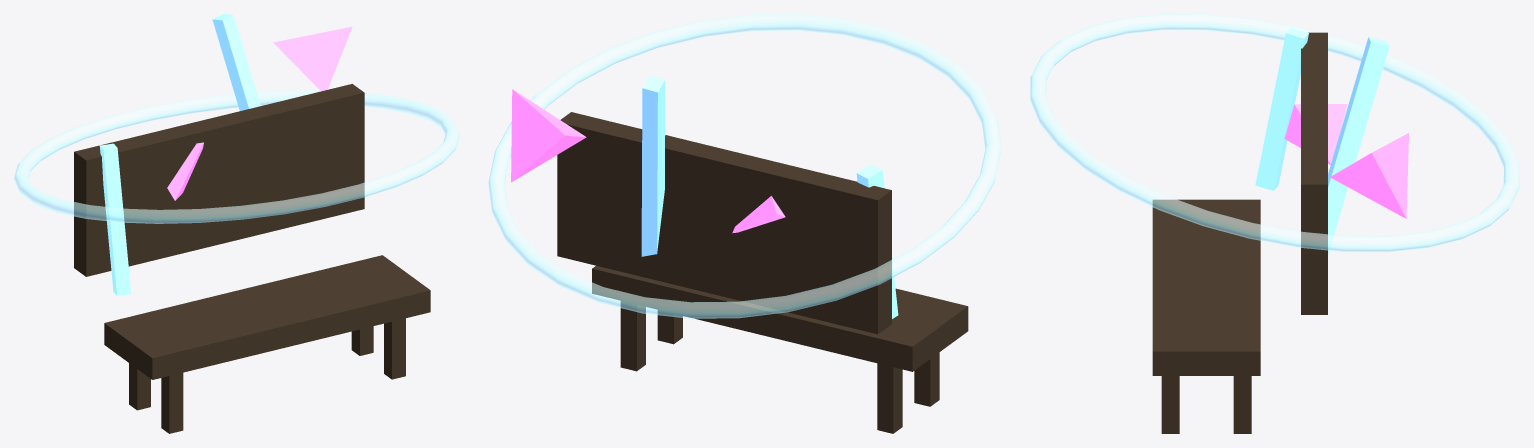
The model's file is bench-growth.glb.
3 renders of one model, left to right at view 1: azimuth 30°, elevation 25°; view 2: azimuth 150°, elevation 25°; view 3: azimuth 270°, elevation 25°, orthographic. The views are drawn at different scales.
Parts seen in each view (by area): view 1: bench-growth-body, growth-halo, growth-0, growth-3, growth-2, growth-1; view 2: bench-growth-body, growth-halo, growth-2, growth-3, growth-1, growth-0; view 3: bench-growth-body, growth-halo, growth-2, growth-0, growth-3, growth-1.
Part boxes in pixels (box(x1,y1,x2,y2)): bench-growth-body: box(74, 84, 430, 433); growth-halo: box(14, 90, 459, 223); growth-0: box(99, 143, 131, 295); growth-3: box(273, 26, 352, 91); growth-2: box(212, 14, 260, 110); growth-1: box(167, 142, 203, 200); bench-growth-body: box(557, 112, 968, 433); growth-halo: box(488, 14, 1001, 318); growth-2: box(641, 75, 665, 256); growth-3: box(511, 89, 586, 182); growth-1: box(732, 196, 785, 233); growth-0: box(856, 164, 898, 318); bench-growth-body: box(1152, 32, 1327, 433); growth-halo: box(1030, 14, 1519, 252); growth-2: box(1328, 37, 1389, 254); growth-0: box(1255, 27, 1308, 190); growth-3: box(1330, 133, 1408, 218); growth-1: box(1284, 104, 1347, 164).
Size of the model in its own units: 2.78 by 2.14 by 2.72.
